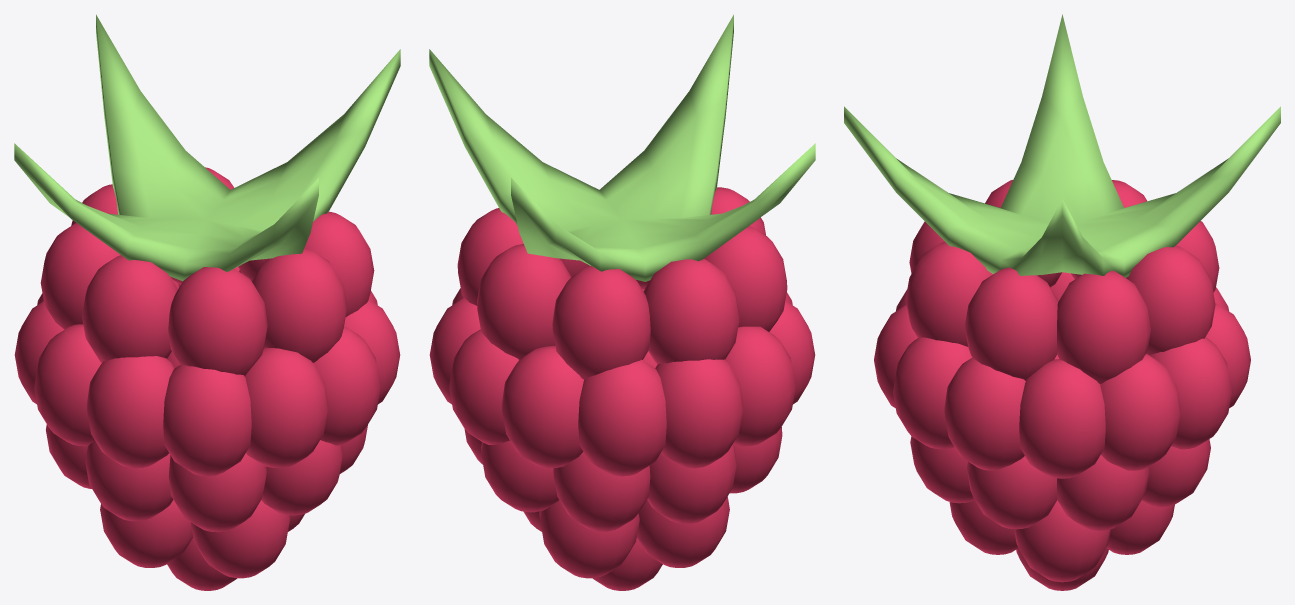
File: raspberry.fbx
3 renders of one model, left to right at view 1: azimuth 30°, elevation 25°; view 2: azimuth 150°, elevation 25°; view 3: azimuth 270°, elevation 25°, orthographic. The views are drawn at different scales.
Visible parts, largest first — view 1: Raspberry; view 2: Raspberry; view 3: Raspberry.
Part boxes in pixels (x1=…): Raspberry: x1=14, y1=14, x2=400, y2=590; Raspberry: x1=429, y1=14, x2=815, y2=590; Raspberry: x1=844, y1=14, x2=1280, y2=590.
Size of the model in its own units: 66 by 80.18 by 66.
